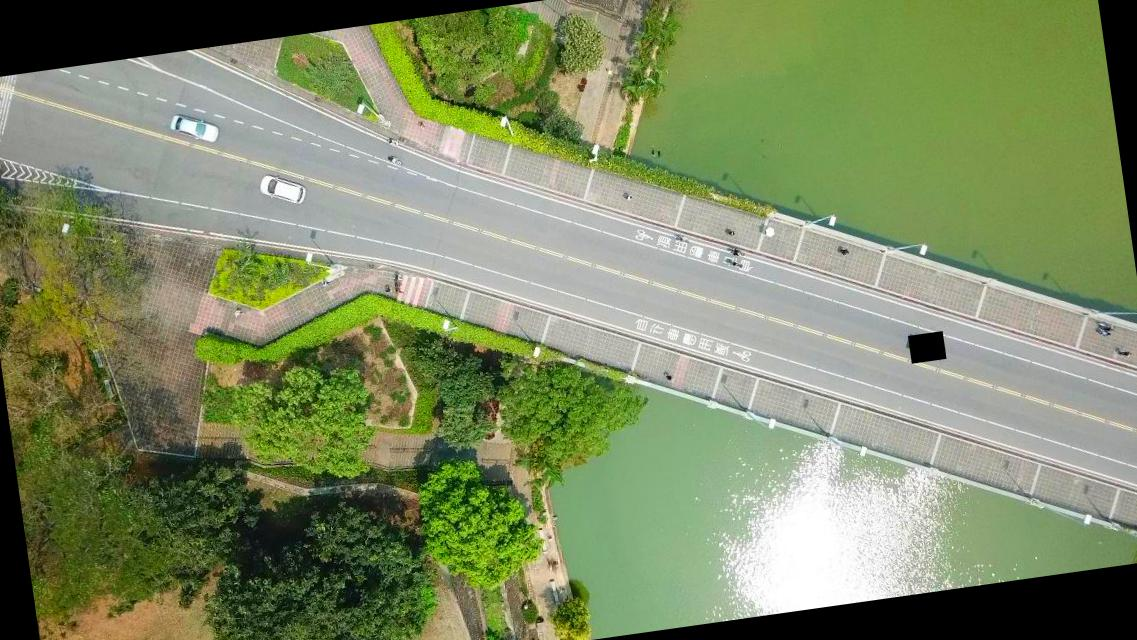vehicle: (166, 109, 221, 149), (257, 170, 307, 210)
